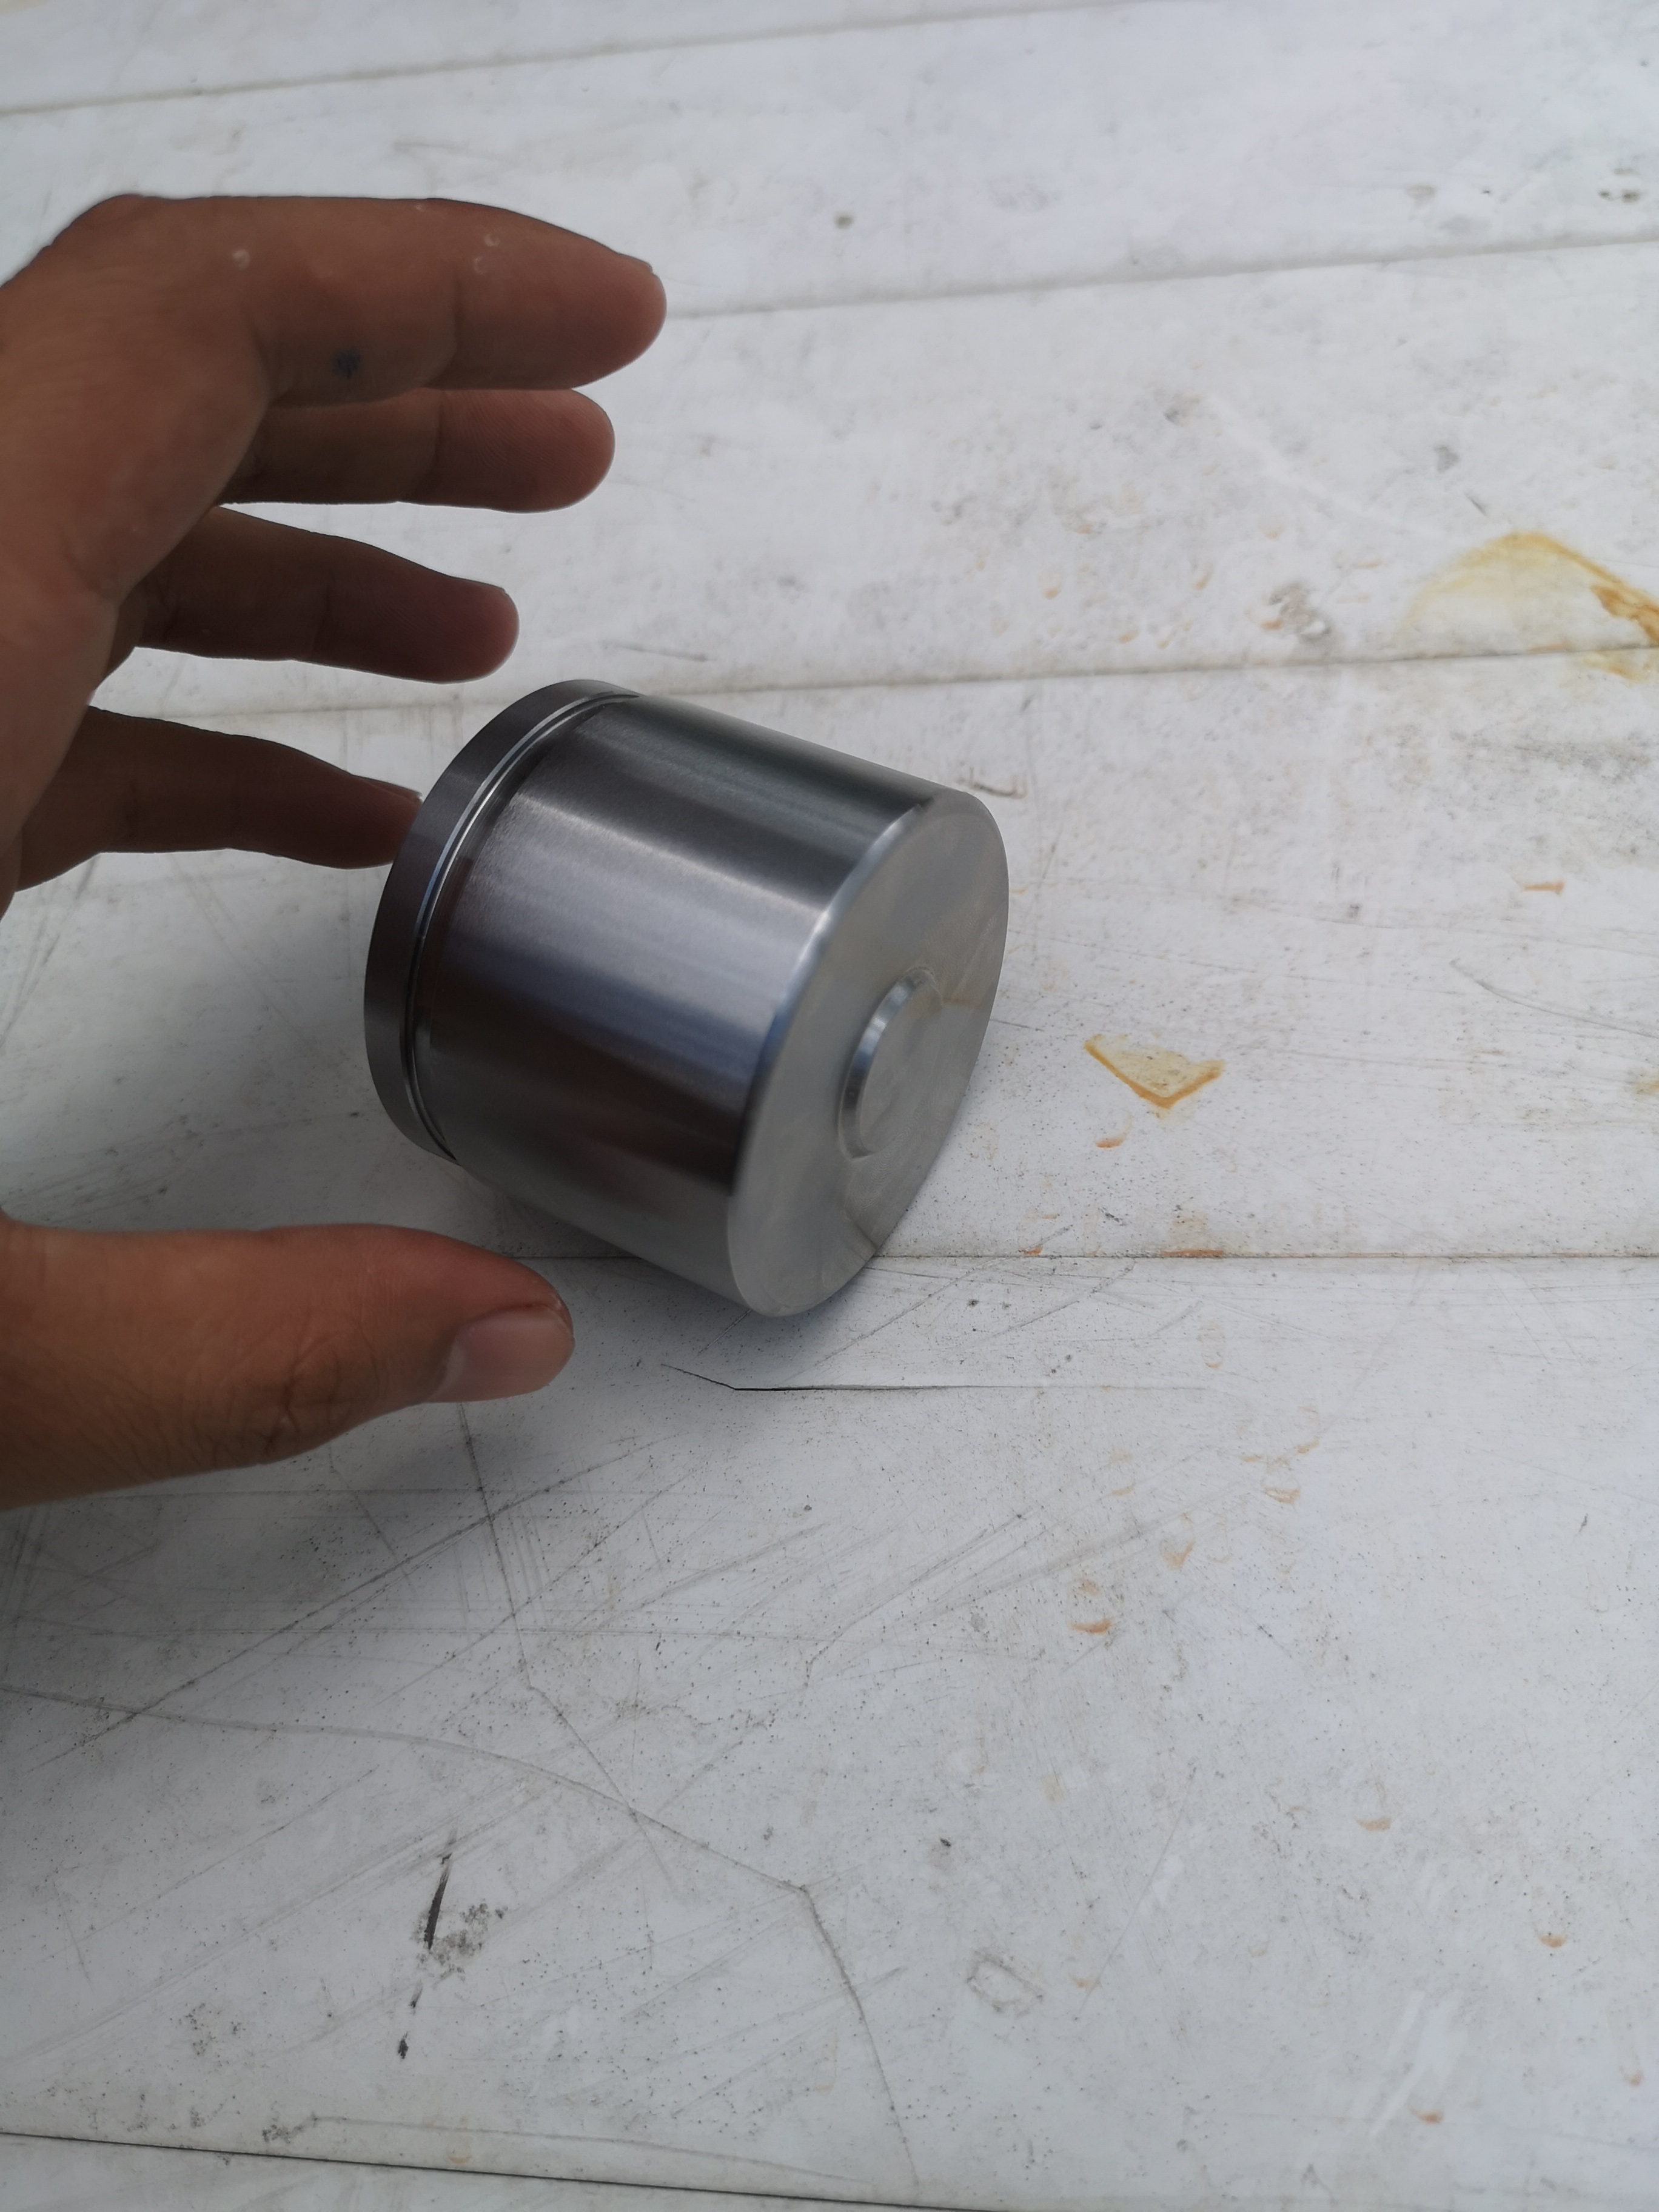ลูกสูบดิสเบรค: (314, 636, 1019, 1341)
